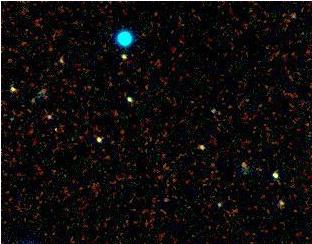star: (274, 2, 304, 32)
